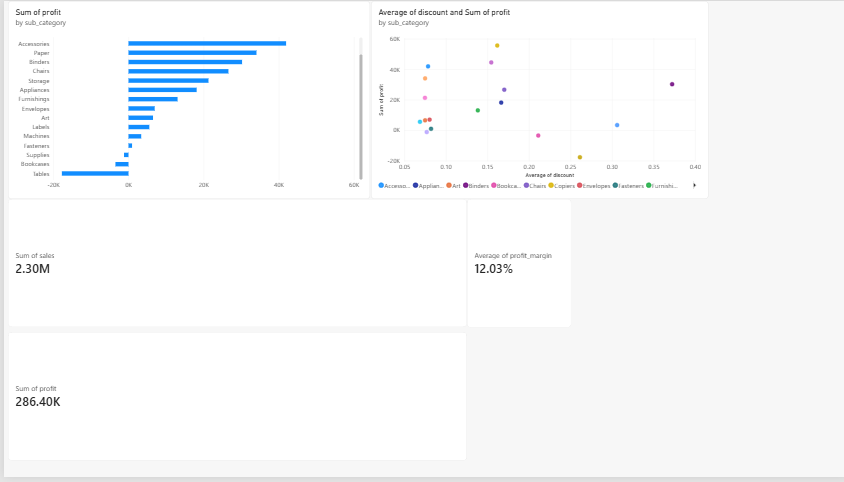

What the dashboard file says about the page in this screenshot:
{"tool":"powerbi","page":{"name":"Page 1","canvas":[1920,1080],"ordinal":0},"visuals":[{"type":"clusteredBarChart","fields":{"Category":["orders_clean.sub_category"],"Y":["Sum(orders_clean.profit)"]},"box":[10,0,670,426.7],"z":0},{"type":"scatterChart","fields":{"Series":["orders_clean.sub_category"],"X":["Avg(orders_clean.discount)"],"Y":["Sum(orders_clean.profit)"]},"box":[680,0,610,426.7],"z":2},{"type":"cardVisual","fields":{"Data":["Sum(orders_clean.sales)"]},"box":[10,450,1043.3,291.7],"z":3},{"type":"cardVisual","fields":{"Data":["Sum(orders_clean.profit)"]},"box":[10,752,1043,292],"z":4},{"type":"cardVisual","fields":{"Data":["Avg(orders_clean.profit_margin)"]},"box":[1053,450,237,292],"z":5}]}

Visuals, with their boxes in screenshot pixels (x1, y1, x2, y2), scaled from the page's 1920x1080 canvas onto the 844x482 screenshot:
clusteredBarChart - orders_clean.sub_category x Sum(orders_clean.profit): crop(4, 0, 299, 190)
scatterChart - orders_clean.sub_category x Avg(orders_clean.discount): crop(299, 0, 567, 190)
cardVisual - Sum(orders_clean.sales): crop(4, 201, 463, 331)
cardVisual - Sum(orders_clean.profit): crop(4, 336, 463, 466)
cardVisual - Avg(orders_clean.profit_margin): crop(463, 201, 567, 331)
